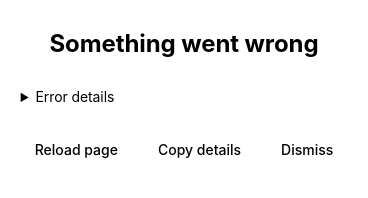
Scenario: ErrorBoundary › reports a clipboard failure without throwing out of the fallback
This screenshot has width=368, height=198.
What coordinates should you click on to do the following:
click the button with test id "error-boundary-copy"
I would click on:
 (200, 149)
Its box is 144,131 -> 255,167.
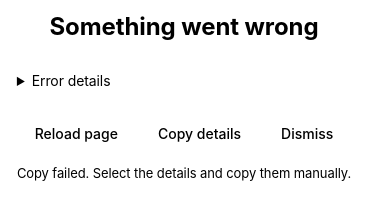
Result: the message with test id "error-boundary-action-error" shows "Copy failed" at 17,165 -> 351,181
